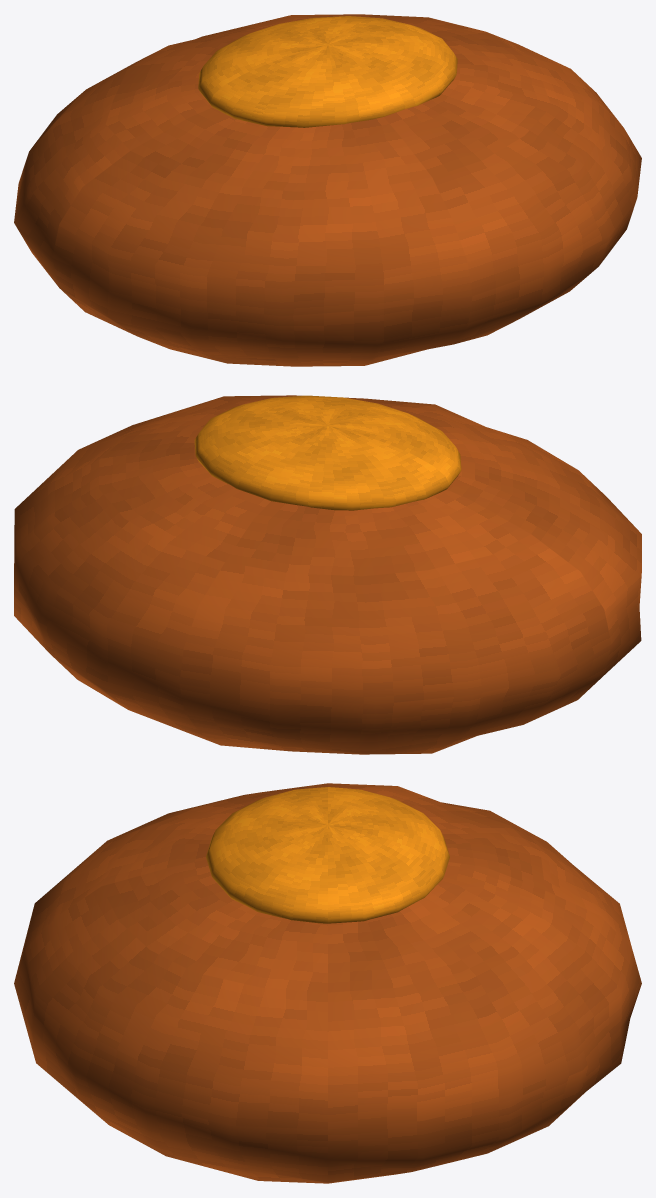
The model's file is bread_petit_cheese.glb.
3 renders of one model, top to bottom at view 1: azimuth 30°, elevation 25°; view 2: azimuth 150°, elevation 25°; view 3: azimuth 270°, elevation 25°, orthographic. The views are drawn at different scales.
Parts seen in each view (by area): view 1: ひと口サイズのパン.002, チーズの小窓; view 2: ひと口サイズのパン.002, チーズの小窓; view 3: ひと口サイズのパン.002, チーズの小窓.
Boxes of the visible parts, x1,y1,x2,y2 form: ひと口サイズのパン.002: (14,14,641,366); チーズの小窓: (198,16,457,127); ひと口サイズのパン.002: (14,395,641,754); チーズの小窓: (194,395,461,510); ひと口サイズのパン.002: (14,783,641,1183); チーズの小窓: (206,787,449,923).
Size of the model in its own units: 0.7929 by 0.37 by 0.72.
2 materials, 2 textured.
